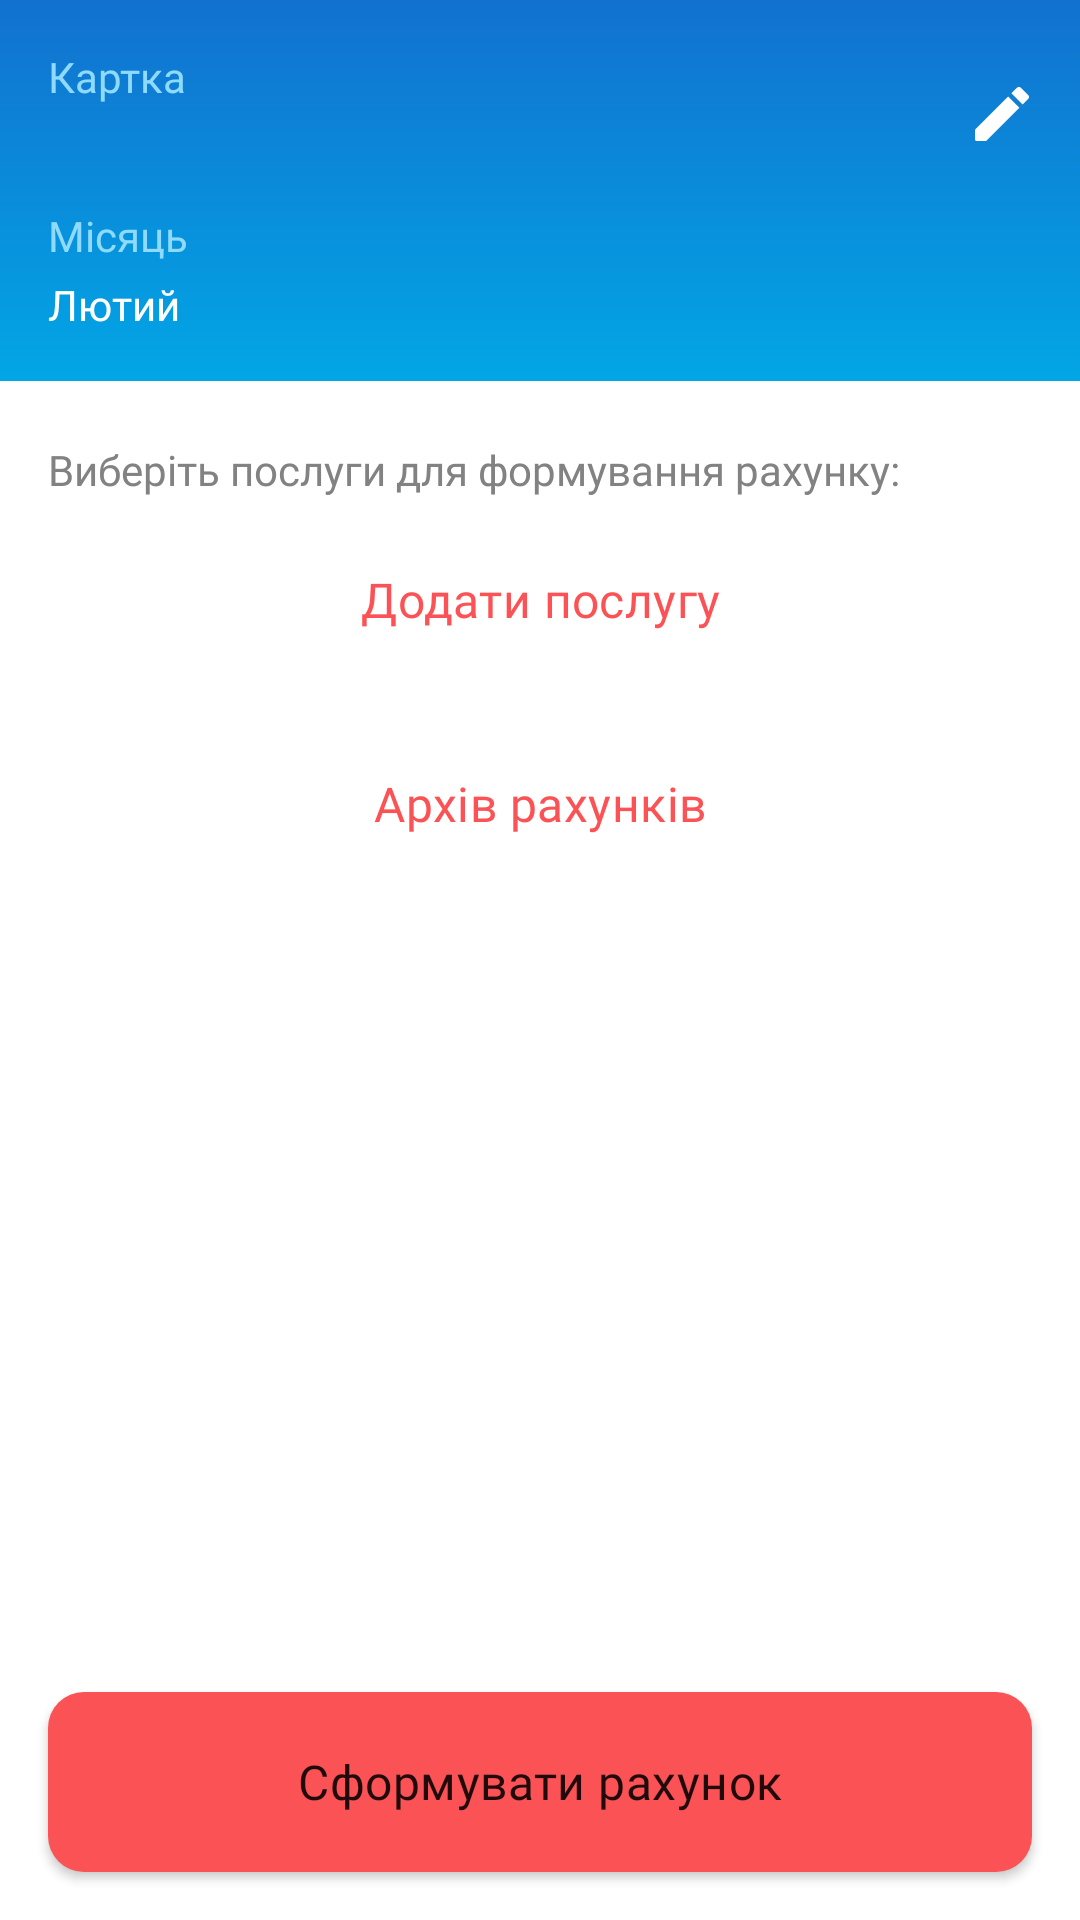

Icons on this 1080*1920 Android screen, each with its box as (x1, y1, x2, y2):
edit: (975, 87, 1029, 141)
